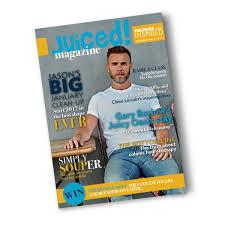Printing industry: (22, 0, 208, 217)
